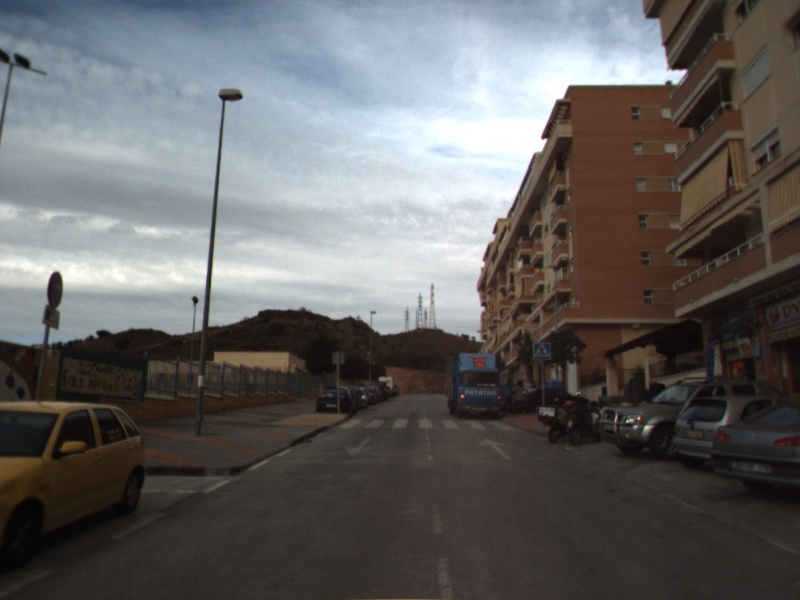STRAIGHT: (478, 436, 514, 461)
